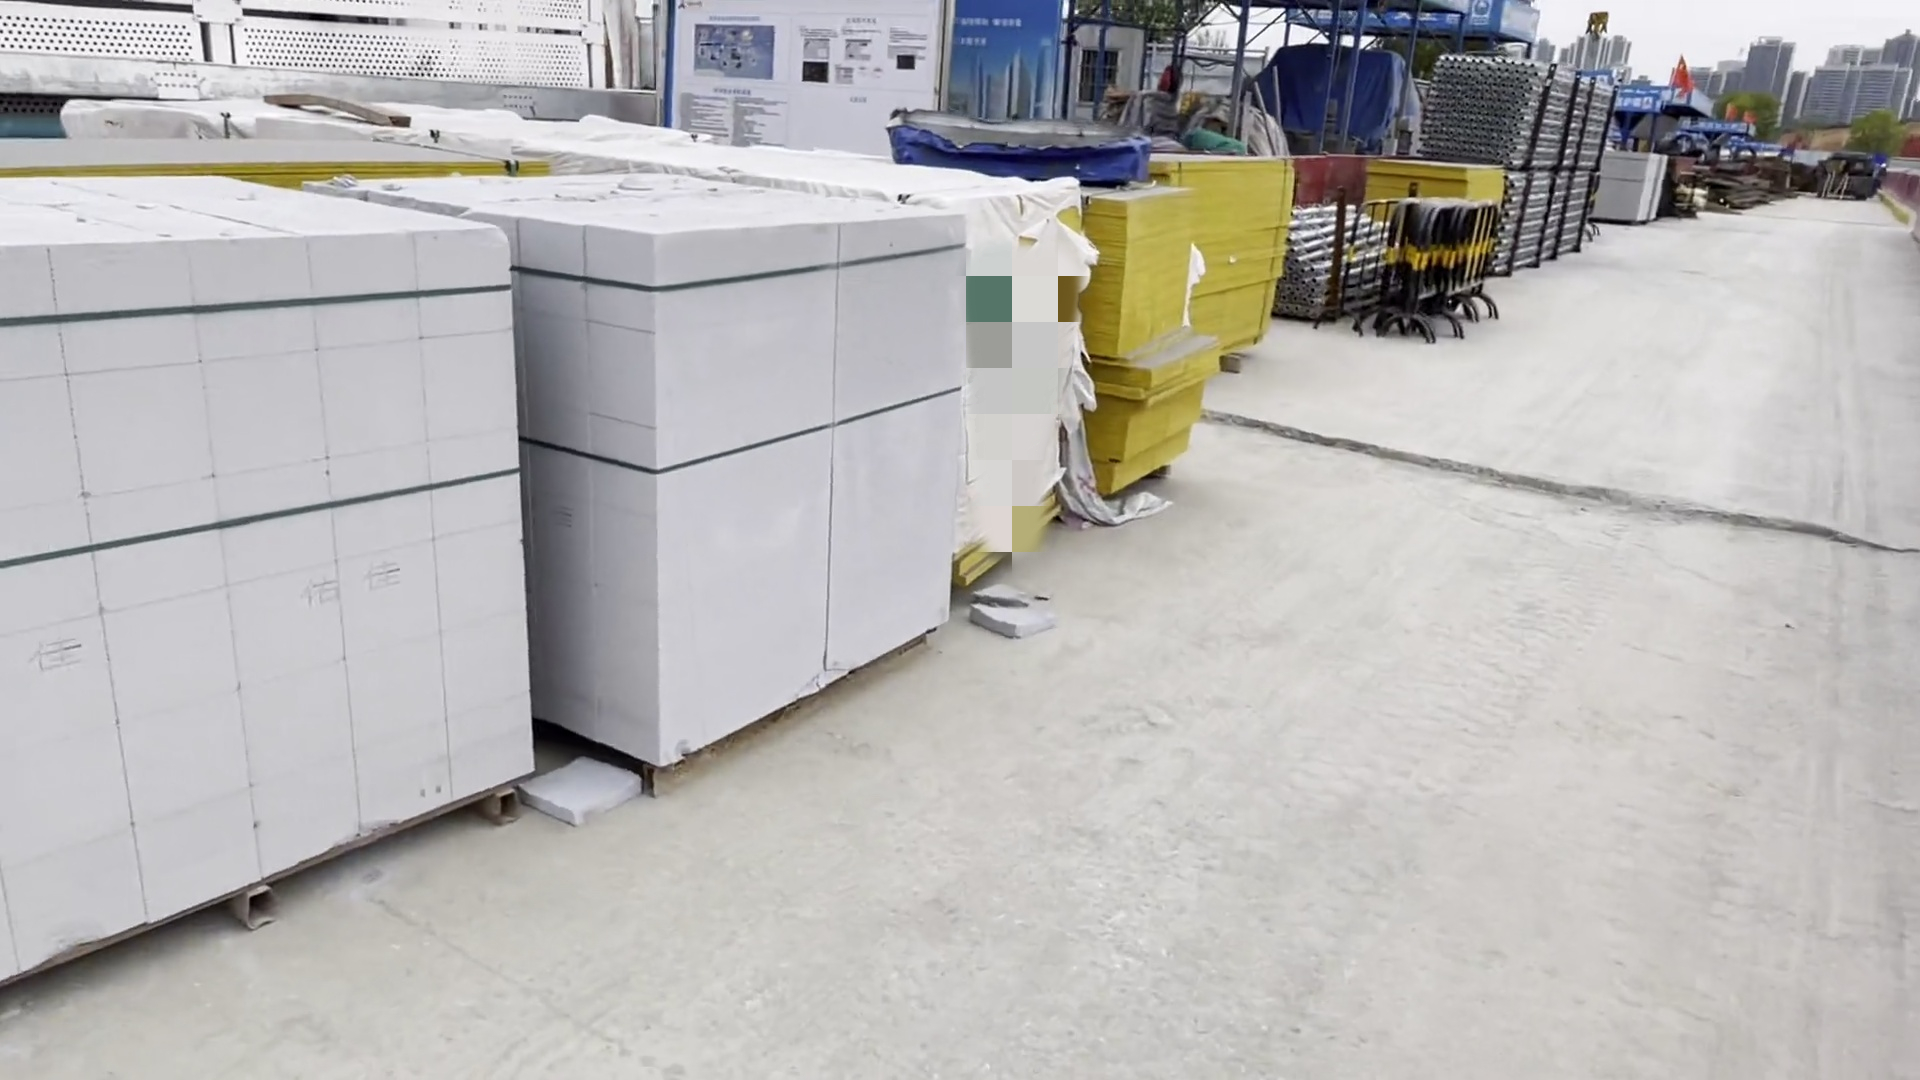board: (1091, 146, 1294, 525)
brick: (4, 167, 986, 975)
scaffold: (1436, 55, 1600, 162)
